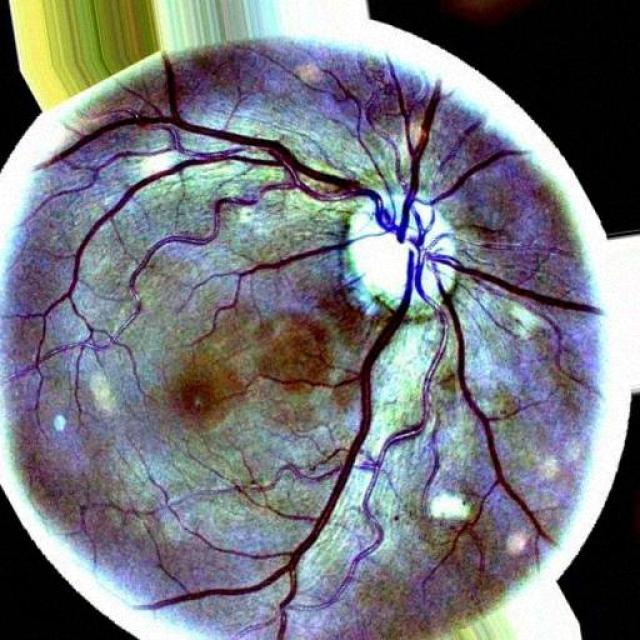Macula: (160, 363, 244, 445)
Nerves: (44, 97, 603, 634)
Optic Disk: (305, 181, 480, 344)
